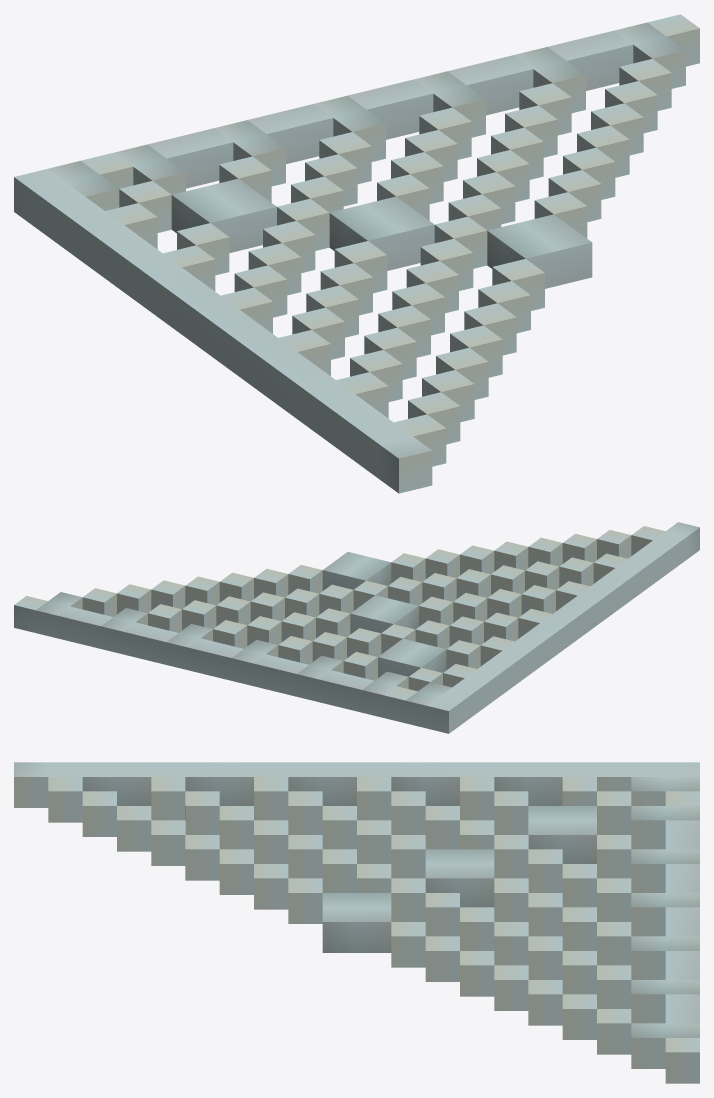
File: Cobweb_02.fbx
3 views of the same model, one above another, from view 1: azimuth 30°, elevation 25°; view 2: azimuth 150°, elevation 25°; view 3: azimuth 270°, elevation 25° (orthographic). The views are drawn at different scales.
Visible parts, largest first — view 1: Cobweb_02; view 2: Cobweb_02; view 3: Cobweb_02.
Boxes of the visible parts, x1,y1,x2,y2 form: Cobweb_02: (14,14,699,493); Cobweb_02: (14,522,699,733); Cobweb_02: (14,762,699,1083).
Bounding box in the file's own units: 100 × 100 × 5.
Materials: 1 (1 with a texture image).
